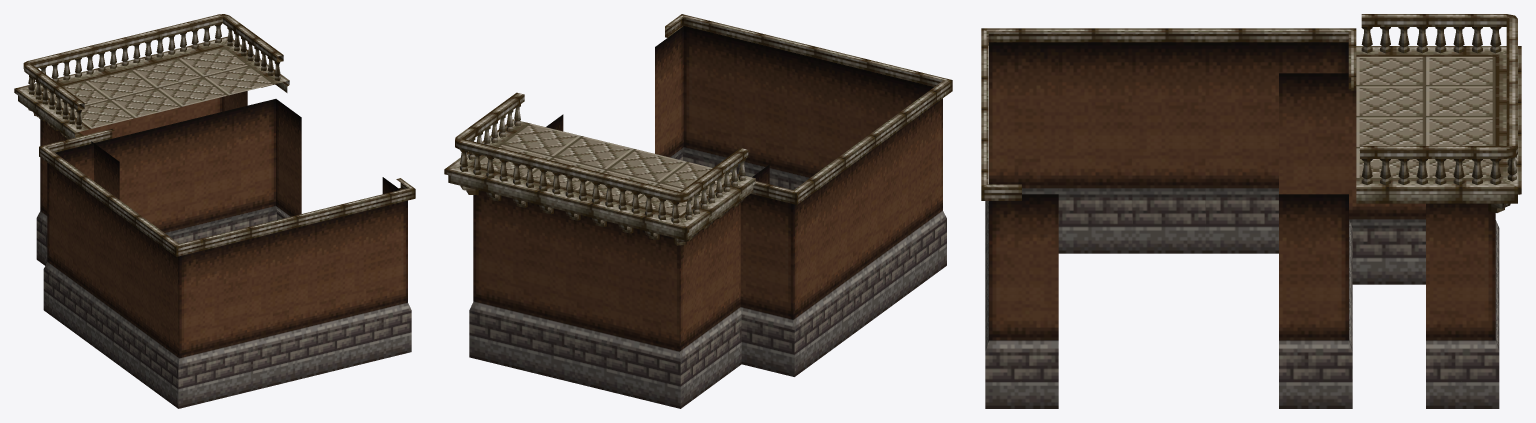
Rendered from EnvBdgMD_Sea_A_Outdoor_House_F_1F.FBX.
3 views of the same model, side by side, from view 1: azimuth 30°, elevation 25°; view 2: azimuth 150°, elevation 25°; view 3: azimuth 270°, elevation 25° (orthographic). The views are drawn at different scales.
Parts seen in each view (by area): view 1: EnvBdgMD_Sea_A_Outdoor_House_F_1F; view 2: EnvBdgMD_Sea_A_Outdoor_House_F_1F; view 3: EnvBdgMD_Sea_A_Outdoor_House_F_1F.
Boxes of the visible parts, left/top/right/bottom form: EnvBdgMD_Sea_A_Outdoor_House_F_1F: left=14, top=14, right=415, bottom=408; EnvBdgMD_Sea_A_Outdoor_House_F_1F: left=444, top=14, right=952, bottom=408; EnvBdgMD_Sea_A_Outdoor_House_F_1F: left=981, top=14, right=1521, bottom=408.
Size of the model in its own units: 538 by 398 by 735.
Materials: 2 (2 with a texture image).
